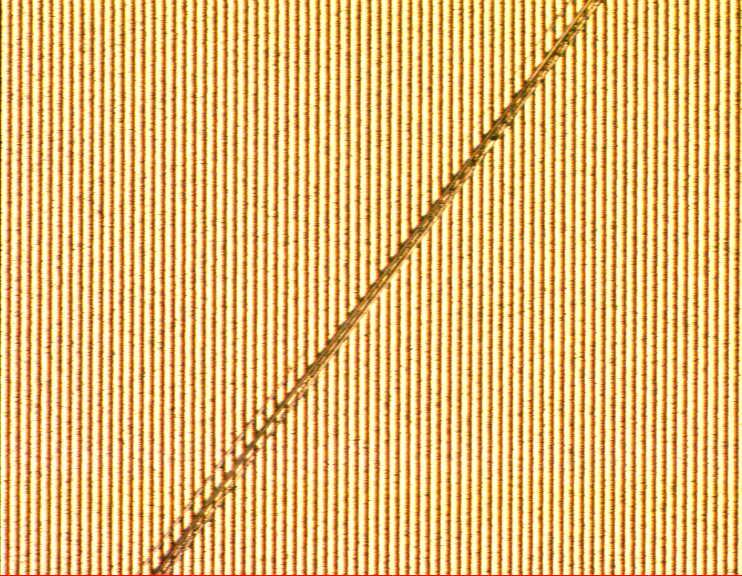SCRATCH: (128, 1, 619, 576)
